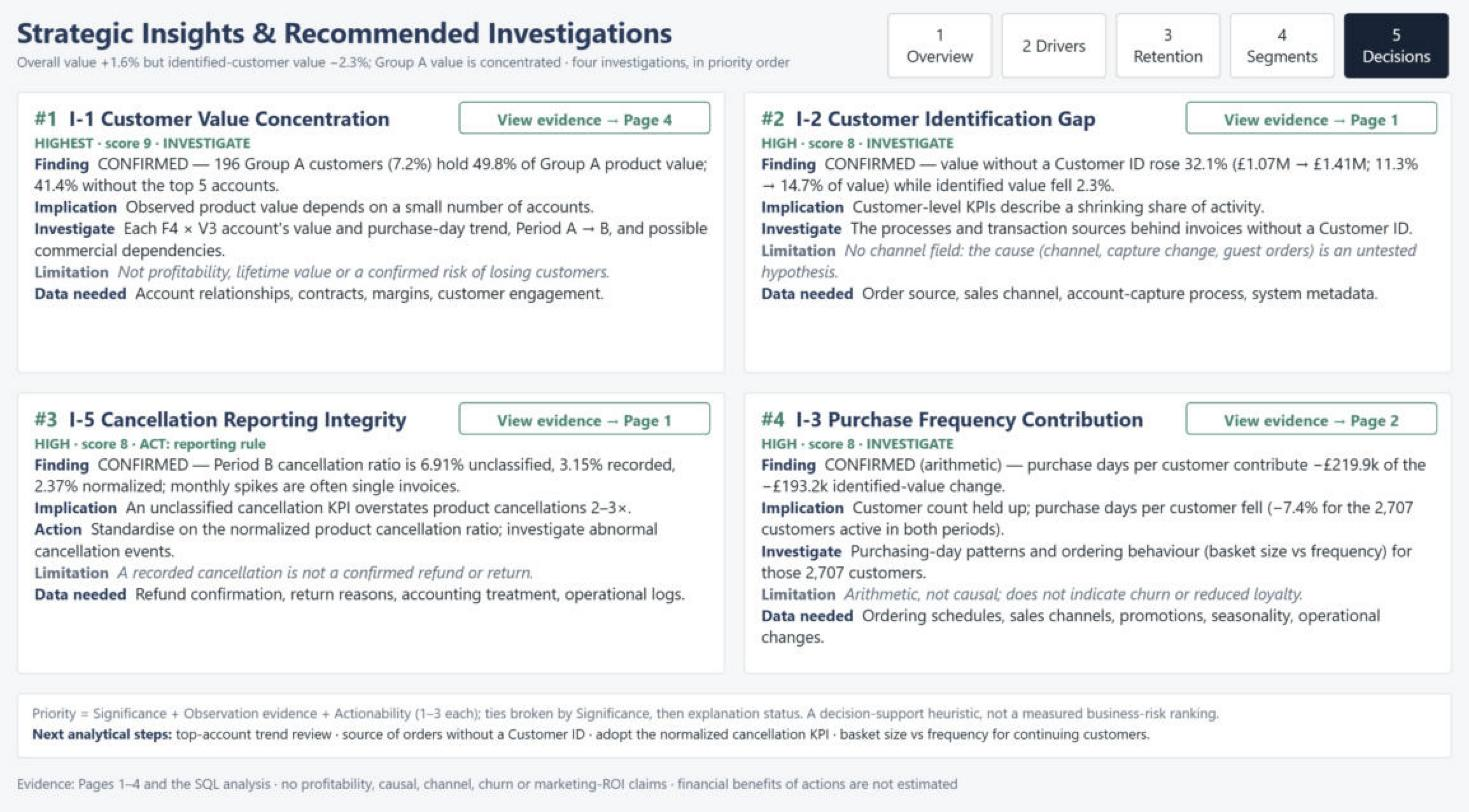

The page's visual inventory and layout, read from the dashboard file:
{"tool":"powerbi","page":{"name":"5 Decisions","canvas":[1280,720],"ordinal":4},"visuals":[{"type":"textbox","box":[24,24,740,56],"z":10},{"type":"pageNavigator","box":[772,24,484,56],"z":22},{"type":"textbox","box":[24,92,608,242],"z":41},{"type":"textbox","box":[648,92,608,242],"z":42},{"type":"textbox","box":[24,350,608,242],"z":43},{"type":"textbox","box":[648,350,608,242],"z":44},{"type":"textbox","box":[24,608,1232,56],"z":50},{"type":"textbox","box":[24,676,1232,20],"z":60},{"type":"actionButton","box":[404,100,216,28],"z":70},{"type":"actionButton","box":[1028,100,216,28],"z":71},{"type":"actionButton","box":[404,358,216,28],"z":72},{"type":"actionButton","box":[1028,358,216,28],"z":73}]}

Visuals, with their boxes in screenshot pixels (x1, y1, x2, y2), scaled from the page's 1280x720 canvas onto the 1469x812 screenshot:
textbox: <bbox>28, 27, 877, 90</bbox>
pageNavigator: <bbox>886, 27, 1441, 90</bbox>
textbox: <bbox>28, 104, 725, 377</bbox>
textbox: <bbox>744, 104, 1441, 377</bbox>
textbox: <bbox>28, 395, 725, 668</bbox>
textbox: <bbox>744, 395, 1441, 668</bbox>
textbox: <bbox>28, 686, 1441, 749</bbox>
textbox: <bbox>28, 762, 1441, 785</bbox>
actionButton: <bbox>464, 113, 712, 144</bbox>
actionButton: <bbox>1180, 113, 1428, 144</bbox>
actionButton: <bbox>464, 404, 712, 435</bbox>
actionButton: <bbox>1180, 404, 1428, 435</bbox>
